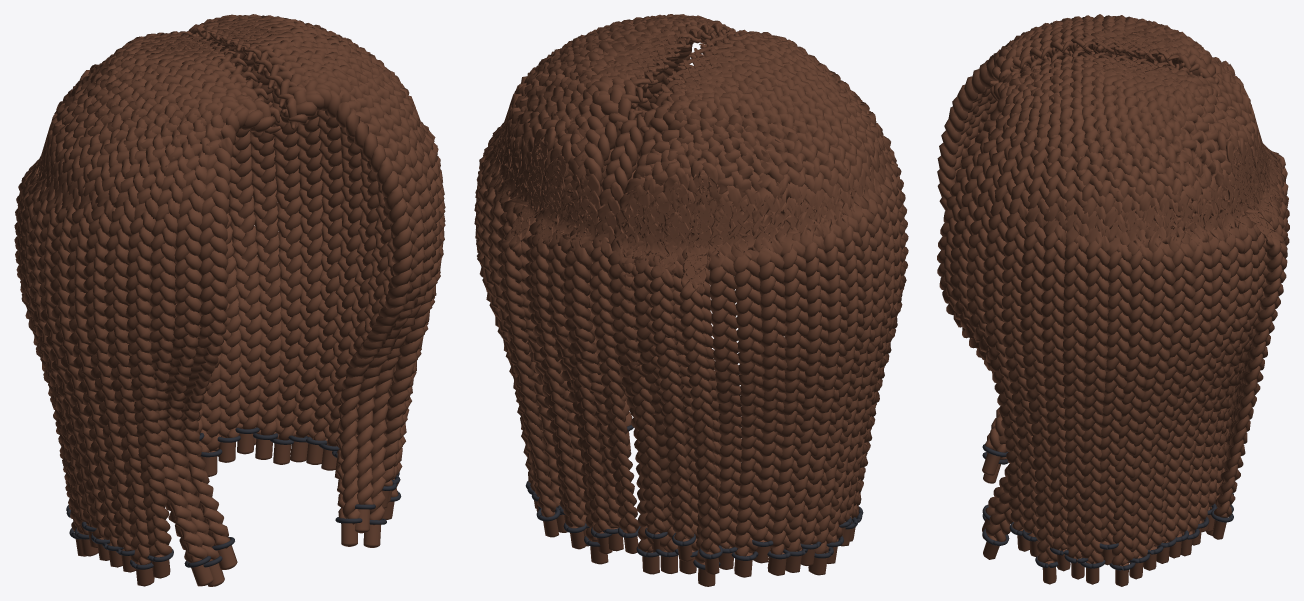
The model's file is Feminine-box-braids-bucket251-hair.glb.
3 renders of one model, left to right at view 1: azimuth 30°, elevation 25°; view 2: azimuth 150°, elevation 25°; view 3: azimuth 270°, elevation 25°, orthographic. The views are drawn at different scales.
Visible parts, largest first — view 1: 226 hair / Hair / chestnut226.002, 226 hair / Hair / ties226.002; view 2: 226 hair / Hair / chestnut226.002, 226 hair / Hair / ties226.002; view 3: 226 hair / Hair / chestnut226.002, 226 hair / Hair / ties226.002.
Boxes of the visible parts, x1,y1,x2,y2 form: 226 hair / Hair / chestnut226.002: [14, 14, 445, 586]; 226 hair / Hair / ties226.002: [66, 427, 401, 569]; 226 hair / Hair / chestnut226.002: [474, 14, 908, 586]; 226 hair / Hair / ties226.002: [525, 425, 863, 569]; 226 hair / Hair / chestnut226.002: [937, 14, 1289, 586]; 226 hair / Hair / ties226.002: [982, 444, 1233, 570].
Bounding box in the file's own units: 1.07 × 1.3 × 0.8719.
